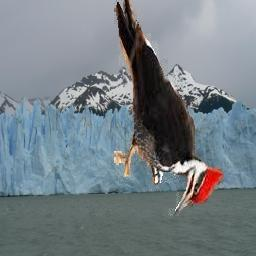Woodpecker: (115, 0, 224, 217)
